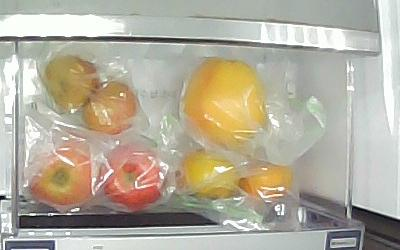apple_vinyl: (28, 138, 99, 206), (100, 144, 165, 206)
grapefruit_vinyl: (181, 57, 269, 147)
persimmon_vinyl: (177, 150, 241, 206), (239, 162, 291, 201)
prune_vinyl: (41, 56, 100, 115), (84, 80, 138, 135)
